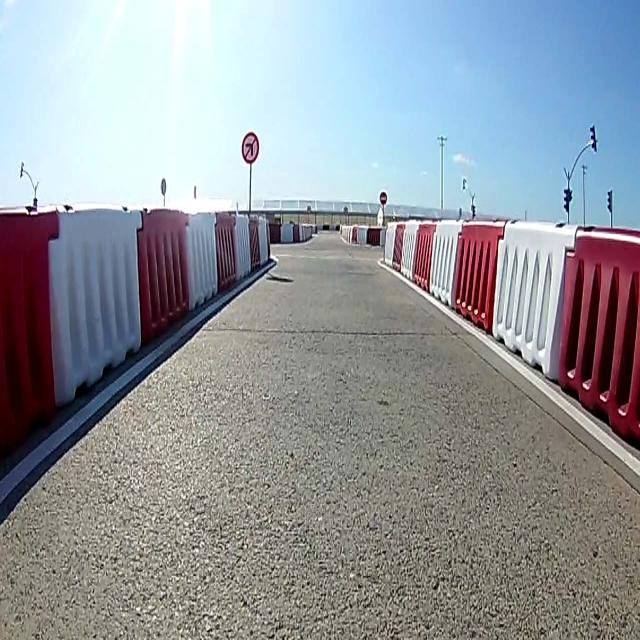girisyok: (379, 189, 387, 203)
soladonulmez: (240, 131, 260, 160)
